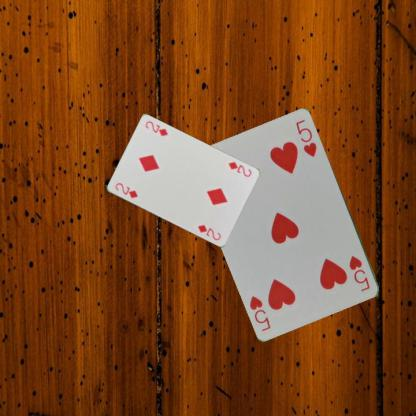2d: (225, 159, 252, 178), (112, 180, 138, 199)
5h: (347, 253, 372, 293)
